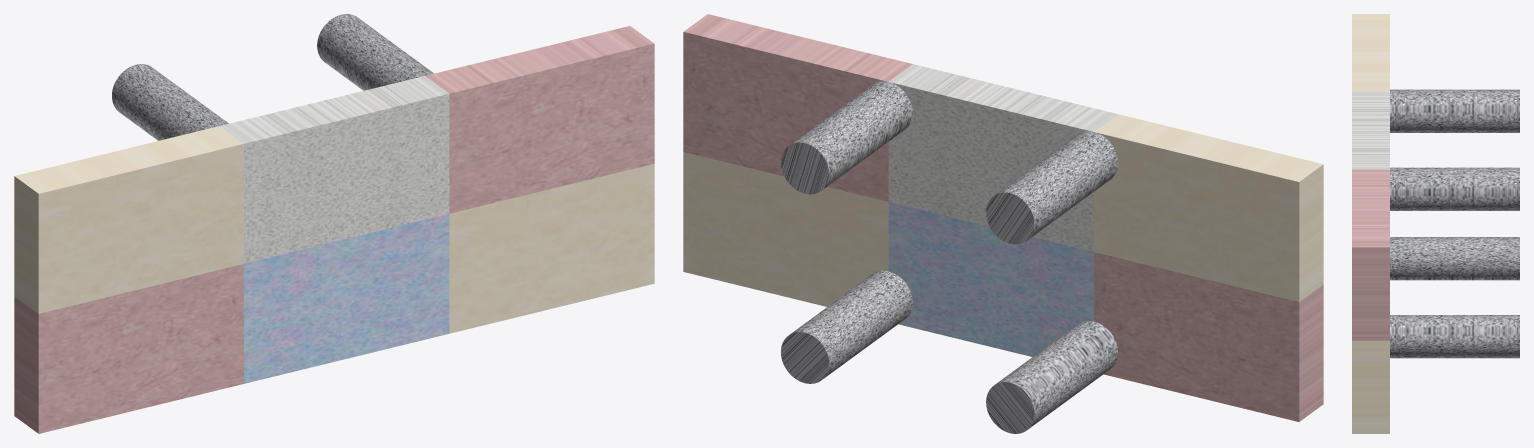
Rendered from bridge1.obj.
3 views of the same model, side by side, from view 1: azimuth 30°, elevation 25°; view 2: azimuth 150°, elevation 25°; view 3: azimuth 270°, elevation 25° (orthographic). The views are drawn at different scales.
Parts seen in each view (by area): view 1: Object.9, Object.6, Object.8, Object.10, Object.7, Object.5, Object.4, Object.2; view 2: Object.9, Object.10, Object.8, Object.7, Object.6, Object.5, Object.2, Object.4, Object.1, Object.3; view 3: Object.8, Object.1, Object.2, Object.3, Object.4, Object.7, Object.6, Object.9.
Part boxes in pixels (x1,y1,x2,y2): Object.9: (14,126,243,313); Object.6: (220,76,449,263); Object.8: (425,26,654,213); Object.10: (14,264,243,433); Object.7: (449,163,654,333); Object.5: (244,214,449,383); Object.4: (317,14,433,90); Object.2: (112,64,228,140); Object.9: (1094,114,1323,301); Object.10: (1094,252,1323,421); Object.8: (683,14,912,201); Object.7: (683,152,888,306); Object.6: (888,64,1117,251); Object.5: (888,202,1093,356); Object.2: (986,131,1117,244); Object.4: (781,81,912,194); Object.1: (986,321,1117,433); Object.3: (781,270,912,383); Object.8: (1352,169,1389,340); Object.1: (1390,237,1519,280); Object.2: (1390,89,1519,132); Object.3: (1390,315,1519,358); Object.4: (1390,167,1519,210); Object.7: (1352,340,1389,433); Object.6: (1352,91,1389,169); Object.9: (1352,14,1389,91).
Bounding box in the file's own units: 55.01 × 20.49 × 16.72.
Materials: 5 (5 with a texture image).
